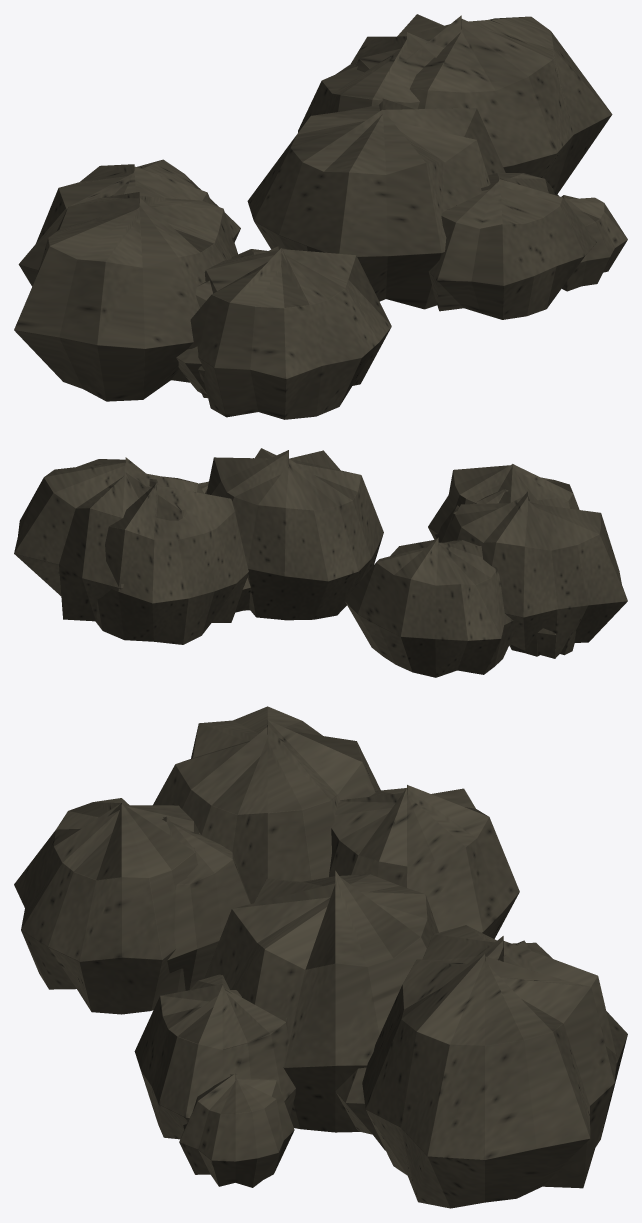
Rendered from PROP-86BC53B68C31_lod0.glb.
The picture shows the model from 3 angles, top to bottom: view 1: azimuth 30°, elevation 25°; view 2: azimuth 150°, elevation 25°; view 3: azimuth 270°, elevation 25°; orthographic projection. The views are drawn at different scales.
Parts seen in each view (by area): view 1: rock.004; view 2: rock.004; view 3: rock.004.
Boxes of the visible parts, box(x1,y1,x2,y2) form: rock.004: box(14, 14, 627, 419); rock.004: box(14, 448, 627, 677); rock.004: box(14, 706, 627, 1208).
Size of the model in its own units: 1.62 by 0.4218 by 1.08.
Materials: 1 (1 with a texture image).
